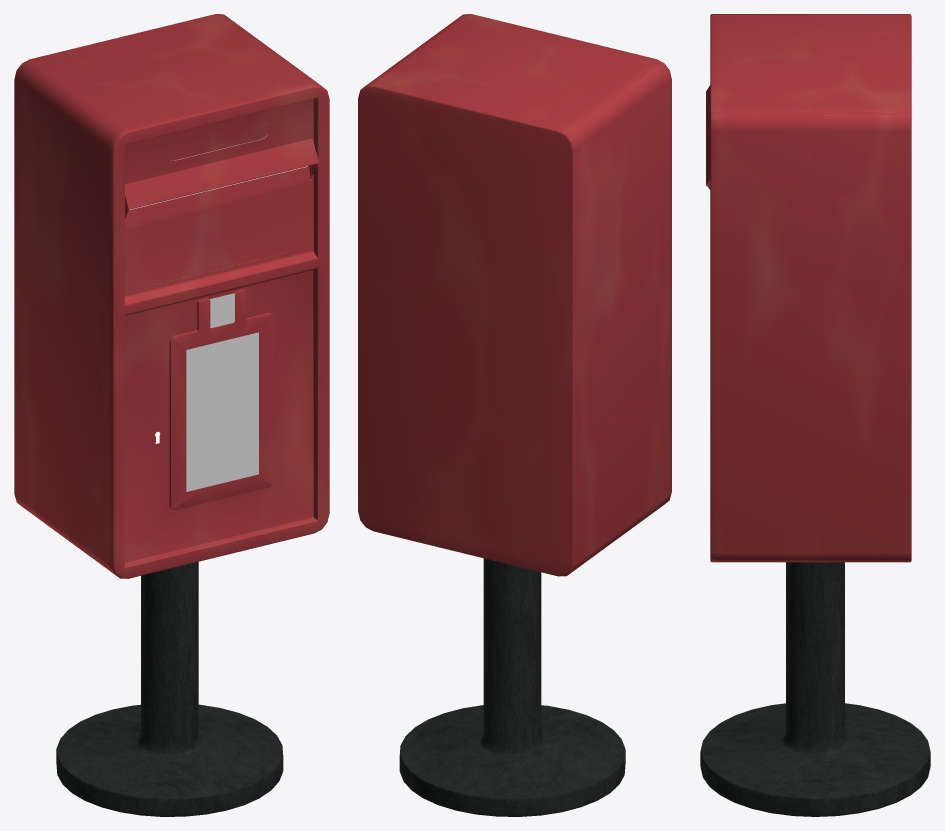
File: postbox.glb
3 renders of one model, left to right at view 1: azimuth 30°, elevation 25°; view 2: azimuth 150°, elevation 25°; view 3: azimuth 270°, elevation 25°, orthographic.
Parts seen in each view (by area): view 1: PostBox_Body_Cube; view 2: PostBox_Body_Cube; view 3: PostBox_Body_Cube.
Boxes of the visible parts, box(x1,y1,x2,y2) form: PostBox_Body_Cube: box(14, 14, 329, 816); PostBox_Body_Cube: box(358, 14, 671, 816); PostBox_Body_Cube: box(700, 14, 930, 816).
Size of the model in its own units: 1.19 by 3.68 by 1.08.
4 materials, 3 textured.
